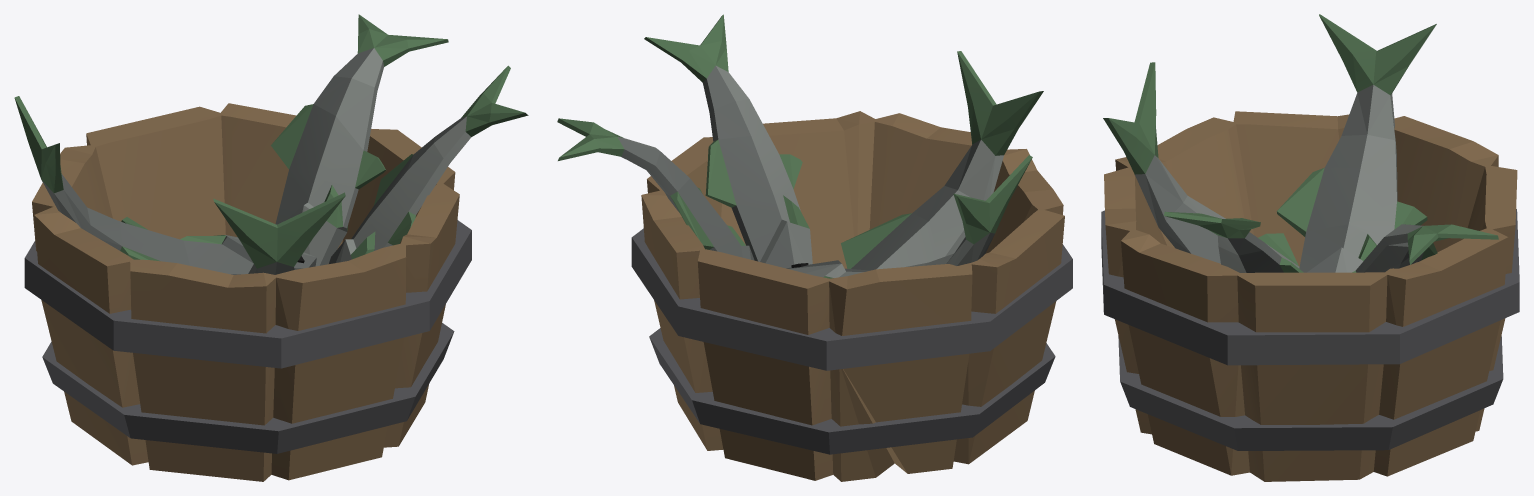
The model's file is Balde_Pescados.glb.
3 renders of one model, left to right at view 1: azimuth 30°, elevation 25°; view 2: azimuth 150°, elevation 25°; view 3: azimuth 270°, elevation 25°, orthographic.
Parts seen in each view (by area): view 1: SM_Prop_Barrel_Half_02_1; view 2: SM_Prop_Barrel_Half_02_1; view 3: SM_Prop_Barrel_Half_02_1.
Boxes of the visible parts, left/top/right/bottom form: SM_Prop_Barrel_Half_02_1: left=14, top=14, right=528, bottom=481; SM_Prop_Barrel_Half_02_1: left=557, top=14, right=1072, bottom=481; SM_Prop_Barrel_Half_02_1: left=1101, top=14, right=1519, bottom=481.
Bounding box in the file's own units: 1.02 × 0.6763 × 0.8425.
1 material, 1 textured.
